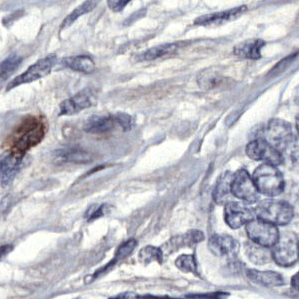Lymphocyte: (10, 115, 45, 154)
